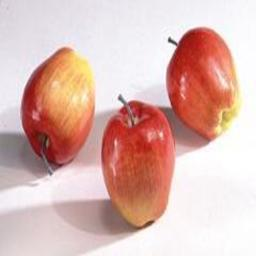apple: (18, 45, 96, 172), (101, 100, 176, 226), (165, 25, 239, 140)
